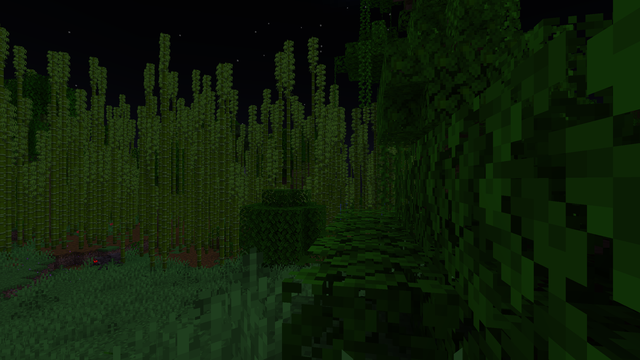araignees: (88, 251, 121, 269)
